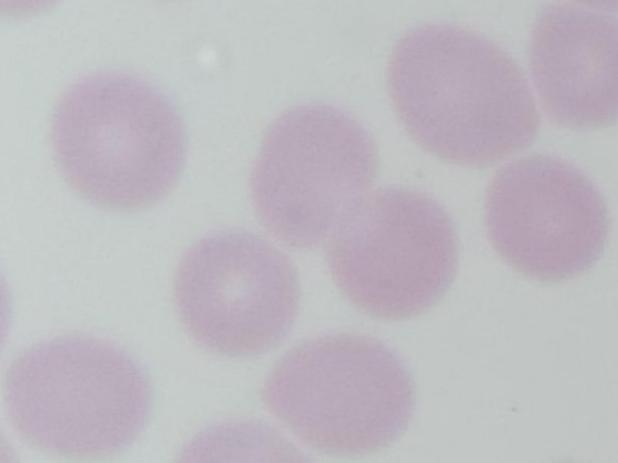Uninfected: (384, 25, 535, 169), (261, 333, 410, 453), (250, 107, 375, 246), (55, 69, 185, 202), (6, 338, 157, 452), (329, 189, 458, 315), (484, 150, 610, 278), (176, 232, 301, 353), (531, 0, 618, 128)
